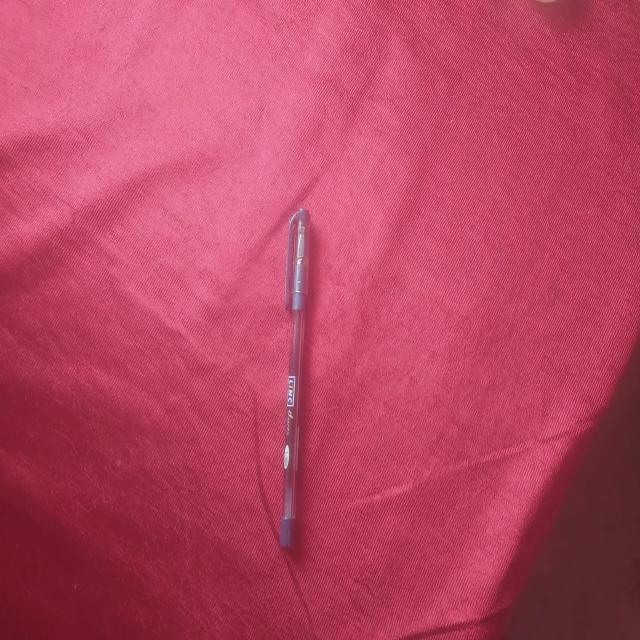blessing_card: (271, 208, 324, 562)
